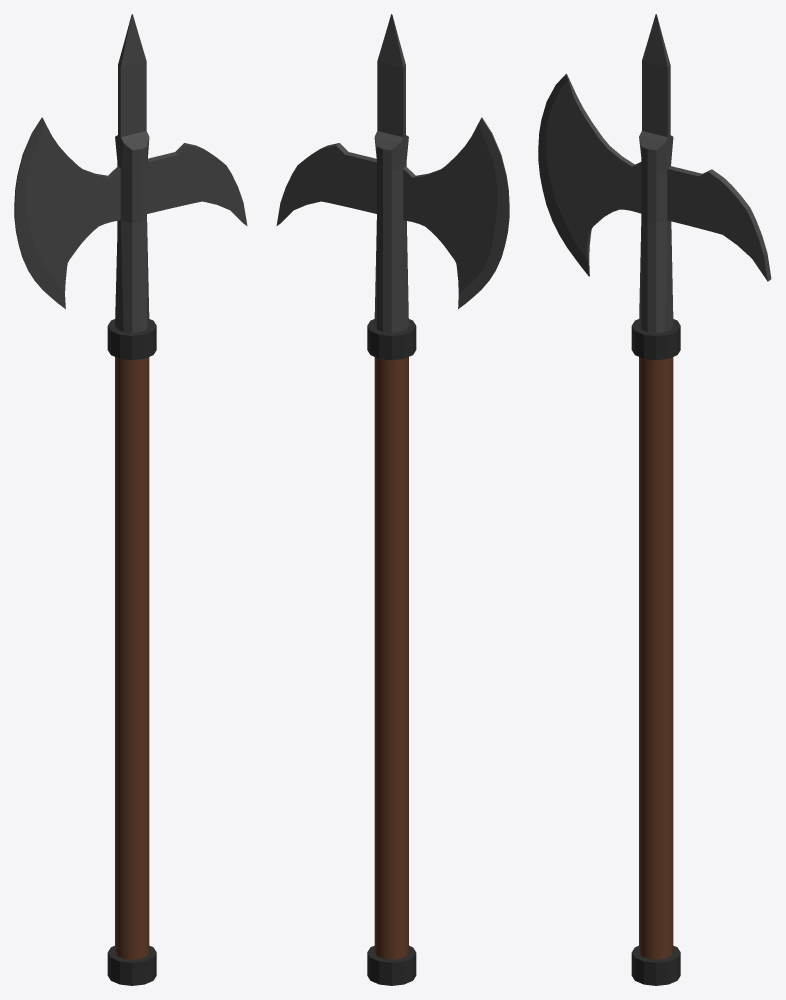
The model's file is Halberd.fbx.
The picture shows the model from 3 angles, left to right: view 1: azimuth 30°, elevation 25°; view 2: azimuth 150°, elevation 25°; view 3: azimuth 330°, elevation 25°; orthographic projection.
Parts seen in each view (by area): view 1: Halberd; view 2: Halberd; view 3: Halberd.
Part boxes in pixels (x1,y1,x2,y2): Halberd: (14, 14, 247, 985); Halberd: (276, 14, 509, 985); Halberd: (538, 14, 771, 985).
Size of the model in its own units: 1.68 by 6.68 by 0.3096.
